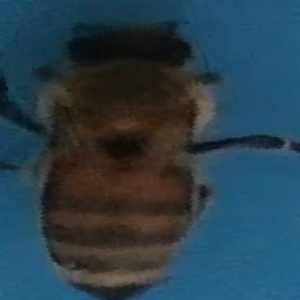bee: (3, 17, 267, 300)
